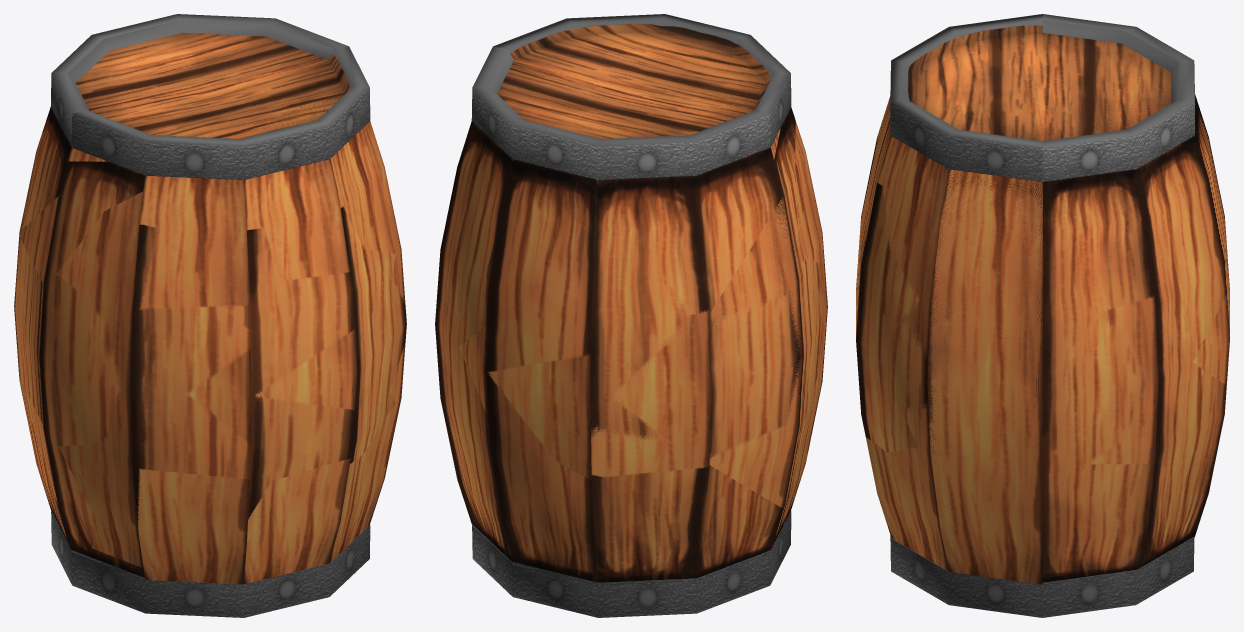
The model's file is Ascent Dynamic Barrel.fbx.
3 views of the same model, side by side, from view 1: azimuth 30°, elevation 25°; view 2: azimuth 150°, elevation 25°; view 3: azimuth 270°, elevation 25° (orthographic).
Visible parts, largest first — view 1: BrokenBarrel:barrel:barrel_low2:barrel_low, barrel_low4, barrel_low3, BrokenBarrel:polySurface1, barrel_low5, polySurface1, barrel_low2, BrokenBarrel:barrel_low5, barrel_low6, BrokenBarrel:barrel_low3, BrokenBarrel:barrel_low6; view 2: BrokenBarrel:barrel:barrel_low2:barrel_low, barrel_low7, polySurface1, barrel_low6, barrel_low8, BrokenBarrel:barrel_low5, BrokenBarrel:polySurface1, barrel_low5, BrokenBarrel:barrel_low6, barrel_low9; view 3: BrokenBarrel:barrel:barrel_low2:barrel_low, BrokenBarrel:barrel_low2, barrel_low2, BrokenBarrel:polySurface1, polySurface1, BrokenBarrel:barrel_low5, barrel_low10, BrokenBarrel:barrel_low6, BrokenBarrel:barrel_low3, barrel_low9, barrel_low3.
Boxes of the visible parts, <box> form: BrokenBarrel:barrel:barrel_low2:barrel_low: <box>14,14,406,584</box>; barrel_low4: <box>137,175,251,584</box>; barrel_low3: <box>244,159,357,584</box>; BrokenBarrel:polySurface1: <box>67,20,370,179</box>; barrel_low5: <box>56,147,143,568</box>; polySurface1: <box>51,511,370,617</box>; barrel_low2: <box>329,121,405,562</box>; BrokenBarrel:barrel_low5: <box>82,47,336,128</box>; barrel_low6: <box>19,196,58,507</box>; BrokenBarrel:barrel_low3: <box>142,82,344,138</box>; BrokenBarrel:barrel_low6: <box>75,33,283,95</box>; BrokenBarrel:barrel:barrel_low2:barrel_low: <box>435,20,824,585</box>; barrel_low7: <box>591,309,711,477</box>; polySurface1: <box>472,511,791,617</box>; barrel_low6: <box>709,197,802,508</box>; barrel_low8: <box>487,354,591,480</box>; BrokenBarrel:barrel_low5: <box>504,56,759,130</box>; BrokenBarrel:polySurface1: <box>488,14,791,146</box>; barrel_low5: <box>770,121,827,524</box>; BrokenBarrel:barrel_low6: <box>497,80,701,138</box>; barrel_low9: <box>459,325,486,414</box>; BrokenBarrel:barrel:barrel_low2:barrel_low: <box>856,14,1229,584</box>; BrokenBarrel:barrel_low2: <box>927,169,1042,584</box>; barrel_low2: <box>866,136,949,571</box>; BrokenBarrel:polySurface1: <box>890,14,1179,181</box>; polySurface1: <box>890,535,1194,617</box>; BrokenBarrel:barrel_low5: <box>994,33,1091,141</box>; barrel_low10: <box>1079,295,1158,464</box>; BrokenBarrel:barrel_low6: <box>1087,39,1170,134</box>; BrokenBarrel:barrel_low3: <box>914,42,994,134</box>; barrel_low9: <box>1192,295,1229,385</box>; barrel_low3: <box>856,96,890,338</box>.
Bounding box in the file's own units: 0.772 × 1.02 × 0.7343.
